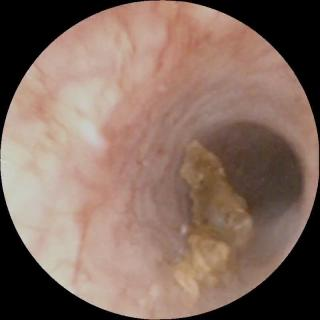stone: (167, 140, 251, 300)
tissue: (8, 6, 315, 315)
